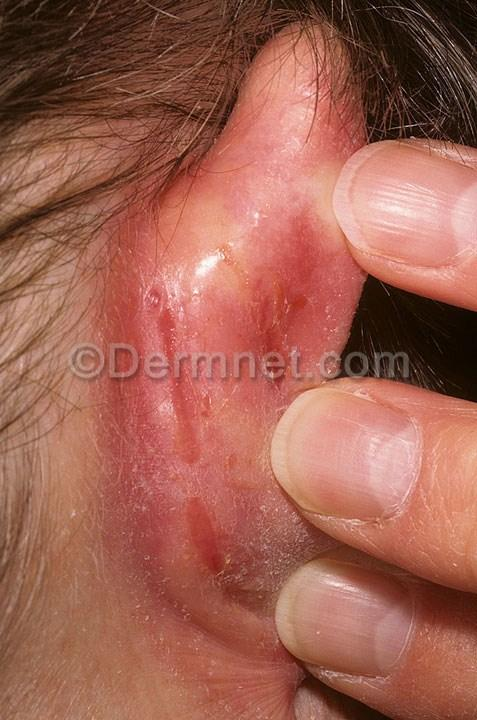Eczema: (65, 158, 227, 376), (188, 398, 330, 628), (69, 397, 195, 612), (220, 155, 334, 351)
